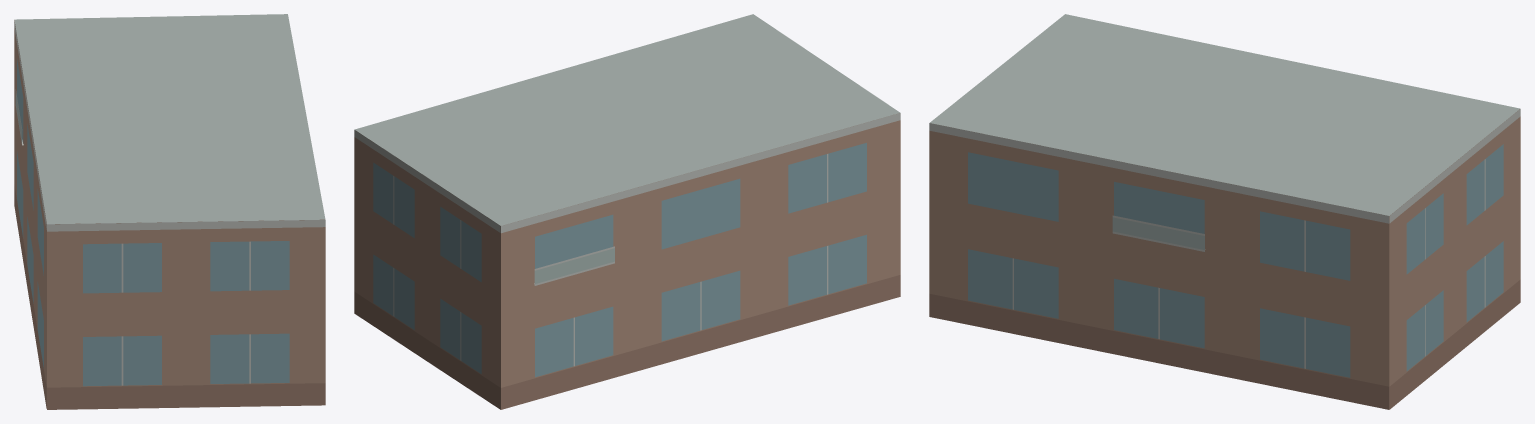
The model's file is survey-upis-32843586.glb.
3 renders of one model, left to right at view 1: azimuth 30°, elevation 25°; view 2: azimuth 150°, elevation 25°; view 3: azimuth 270°, elevation 25°, orthographic. The views are drawn at different scales.
Visible parts, largest first — view 1: survey-upis-32843586.tmp; view 2: survey-upis-32843586.tmp; view 3: survey-upis-32843586.tmp.
Boxes of the visible parts, left/top/right/bottom form: survey-upis-32843586.tmp: left=14, top=14, right=325, bottom=409; survey-upis-32843586.tmp: left=354, top=14, right=900, bottom=409; survey-upis-32843586.tmp: left=929, top=14, right=1520, bottom=409.
Size of the model in its own units: 13.63 by 6.1 by 16.86.
